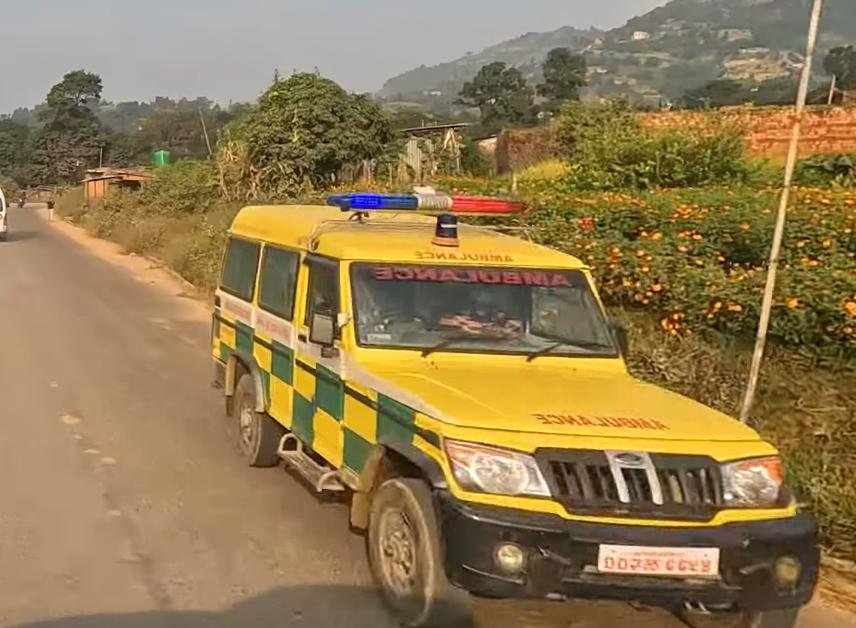ambulance: (195, 177, 825, 628)
